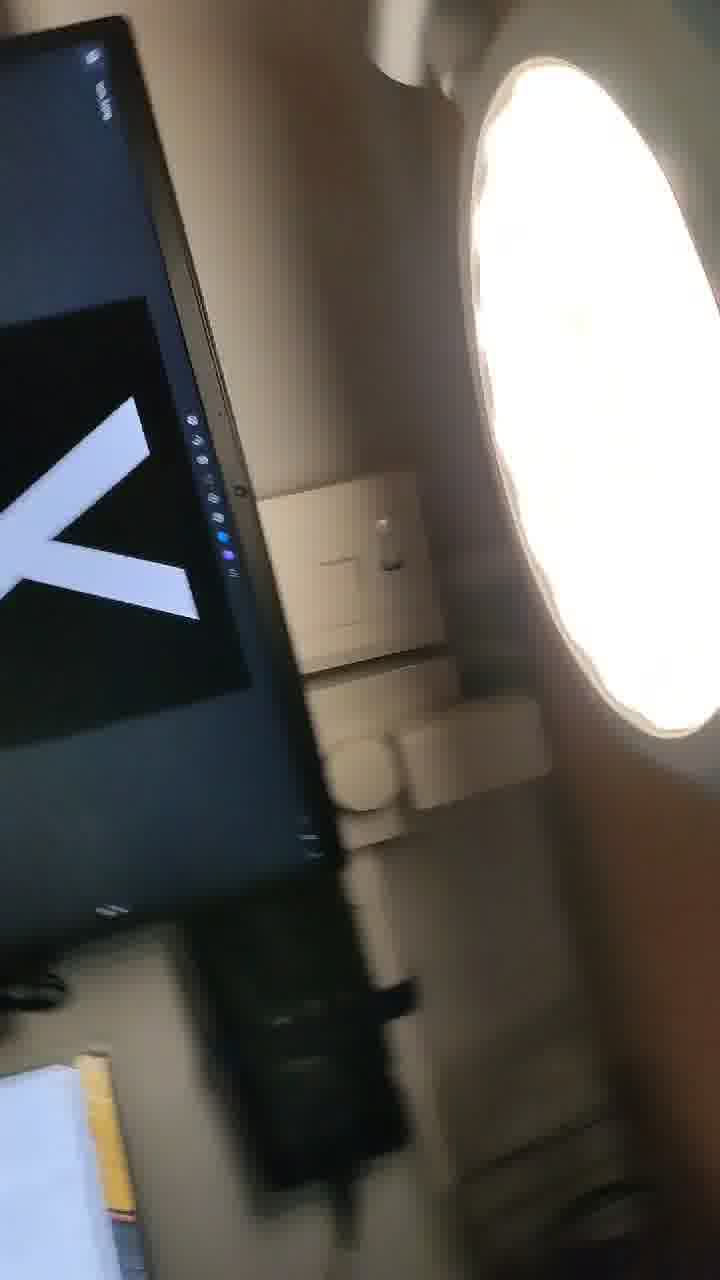X: (1, 252, 233, 623)
